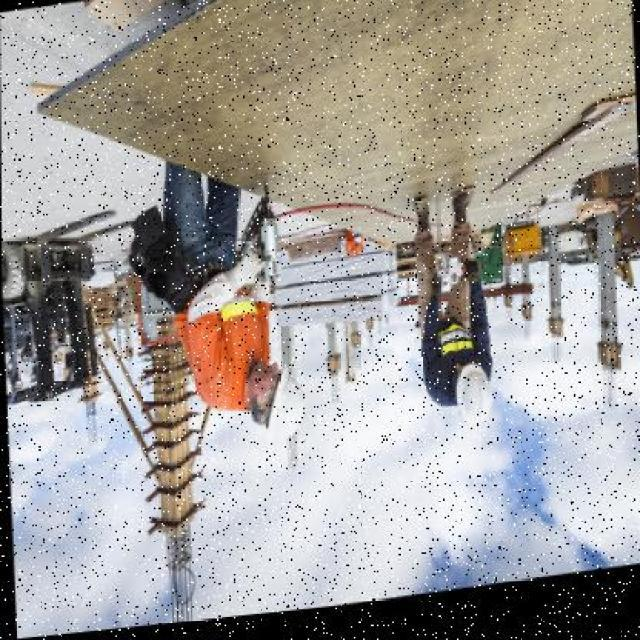helmet: (257, 365, 308, 447), (448, 363, 494, 436)
